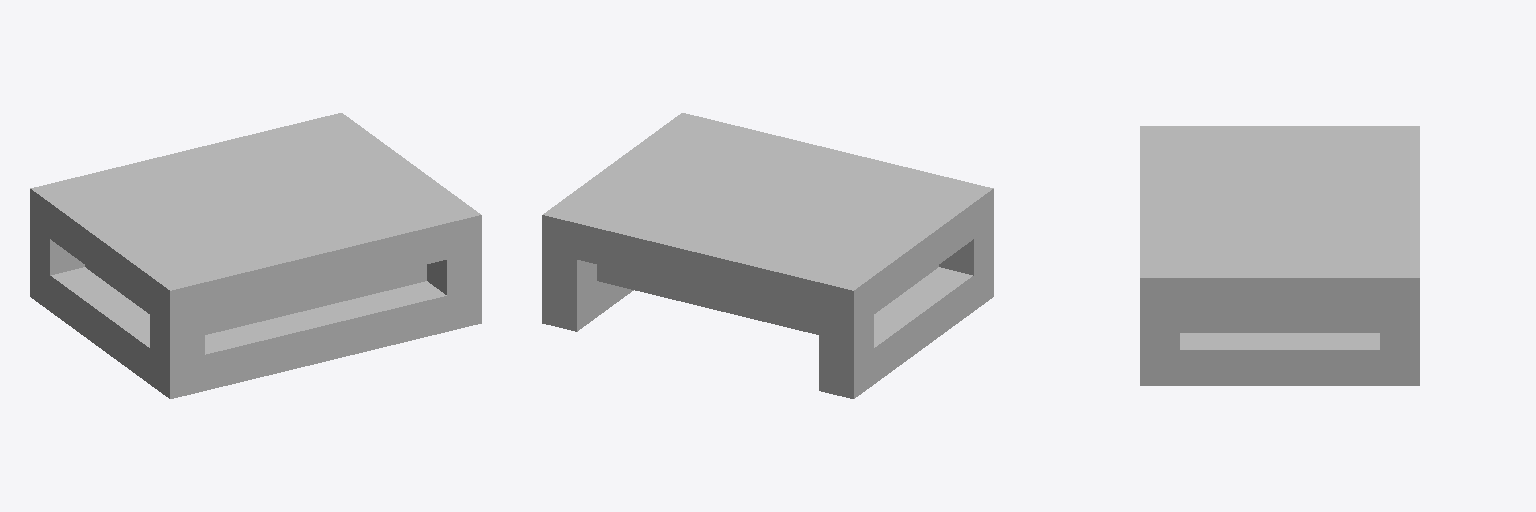
Rendered from waffle machine.obj.
The picture shows the model from 3 angles: view 1: azimuth 30°, elevation 25°; view 2: azimuth 150°, elevation 25°; view 3: azimuth 270°, elevation 25°; orthographic projection.
Visible parts, largest first — view 1: waffle machine; view 2: waffle machine; view 3: waffle machine.
Boxes of the visible parts, x1,y1,x2,y2 form: waffle machine: [30, 113, 481, 398]; waffle machine: [542, 113, 993, 398]; waffle machine: [1140, 126, 1419, 385].
Bounding box in the file's own units: 9 × 3 × 7.